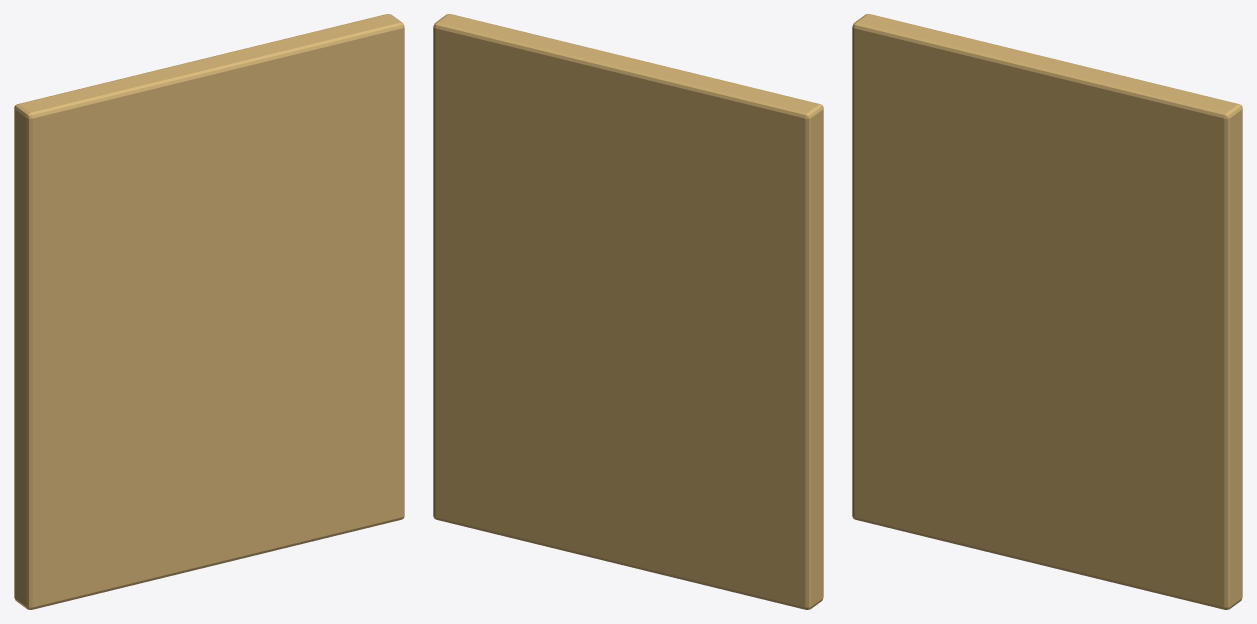
File: wall_plain_2m__finish.glb
3 renders of one model, left to right at view 1: azimuth 30°, elevation 25°; view 2: azimuth 150°, elevation 25°; view 3: azimuth 330°, elevation 25°, orthographic.
Visible parts, largest first — view 1: wall_plain_2m__finish__mesh_00; view 2: wall_plain_2m__finish__mesh_00; view 3: wall_plain_2m__finish__mesh_00.
Boxes of the visible parts, bbox=[...] form: wall_plain_2m__finish__mesh_00: bbox=[14, 14, 404, 609]; wall_plain_2m__finish__mesh_00: bbox=[433, 14, 823, 609]; wall_plain_2m__finish__mesh_00: bbox=[852, 14, 1242, 609].
Bounding box in the file's own units: 1.75 × 2.2 × 0.13.
